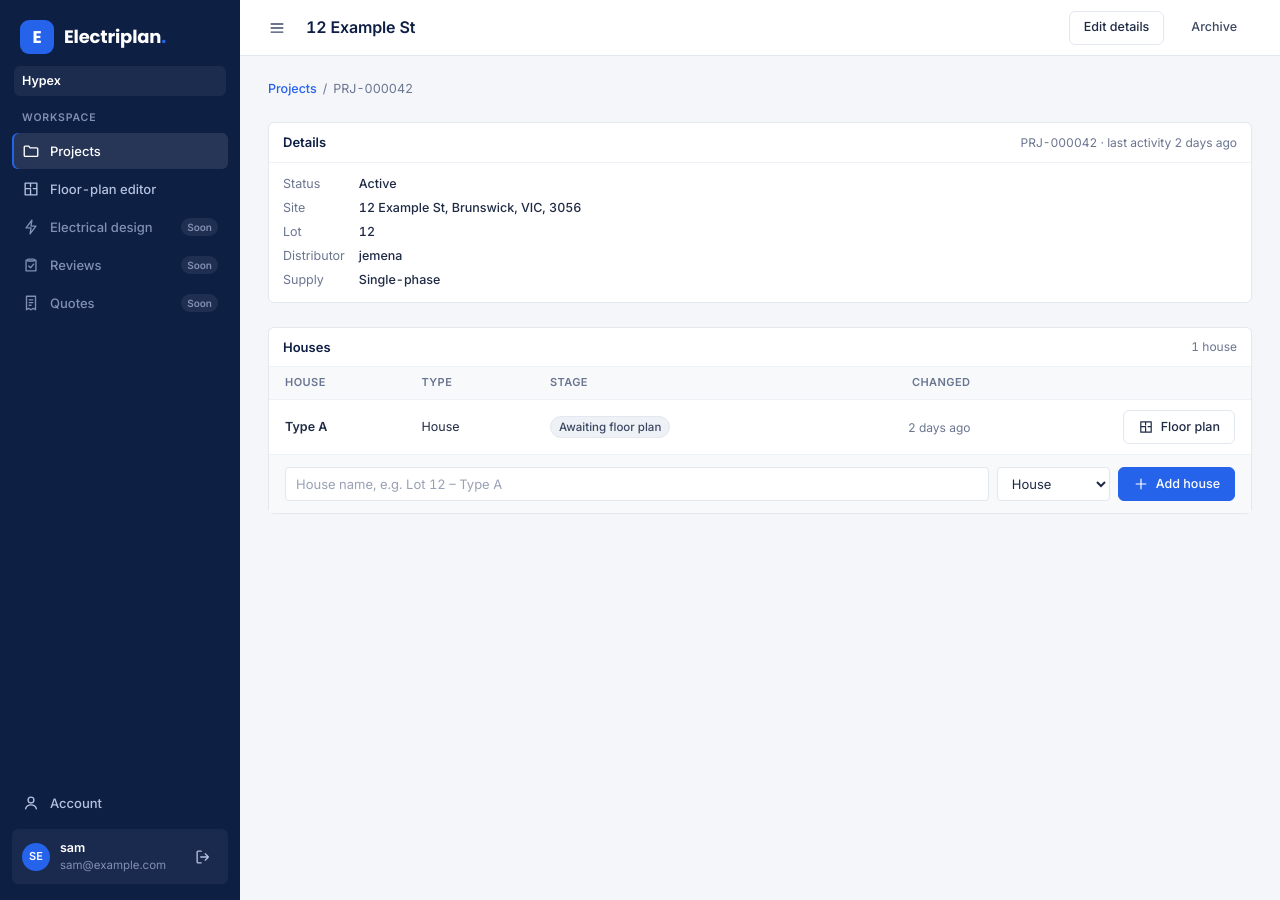
Scenario: Project page › archives the project, which makes it read-only
The image size is (1280, 900).
Click the button "Archive" at [1214, 28], box x1=1176 y1=10 x2=1252 y2=44
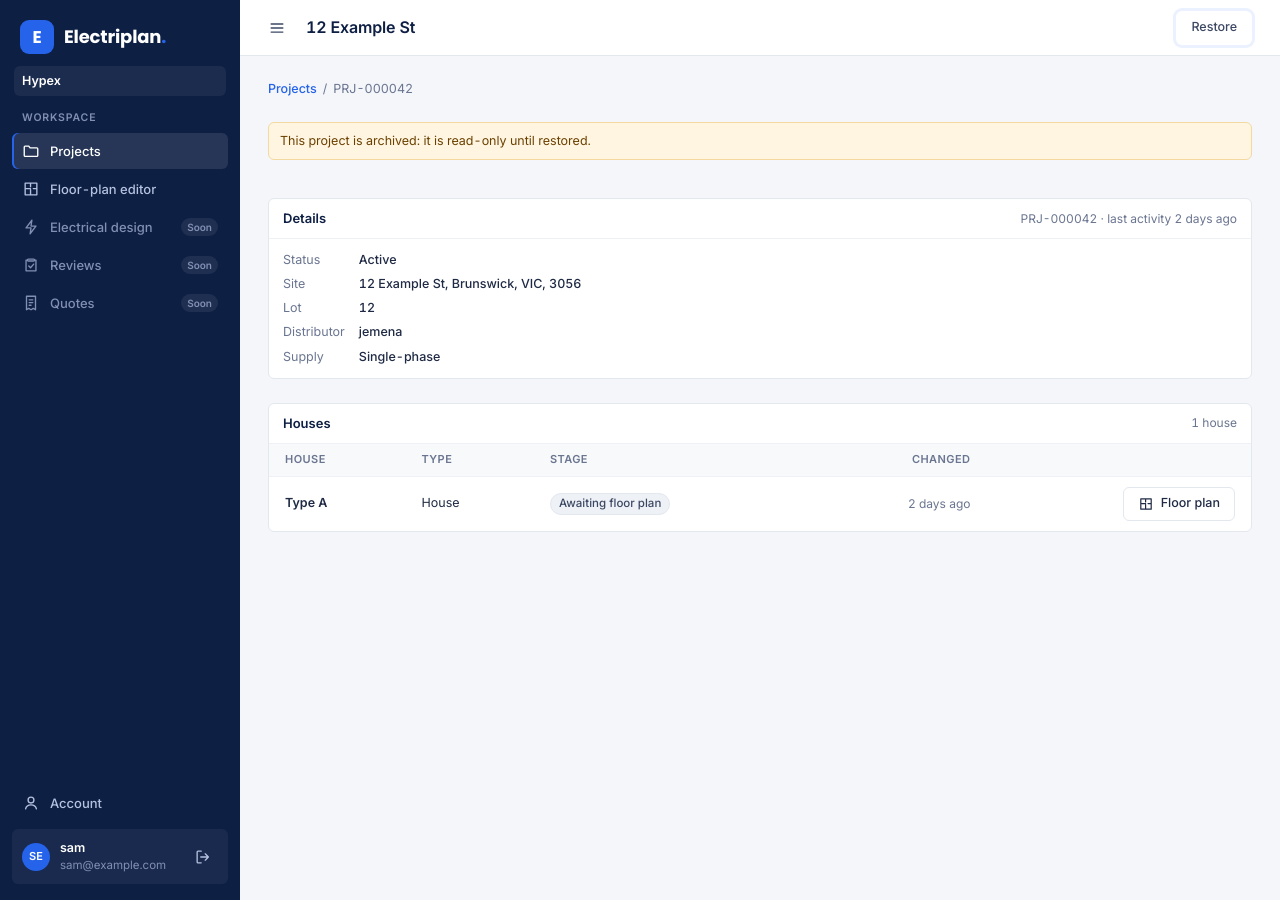
Expected: the text "This project is archived: it is read-only until restored." is shown, x1=268 y1=122 x2=1252 y2=160
Expected: the button "Restore" is shown, x1=1176 y1=10 x2=1252 y2=44
Expected: the button "Edit details" is gone
